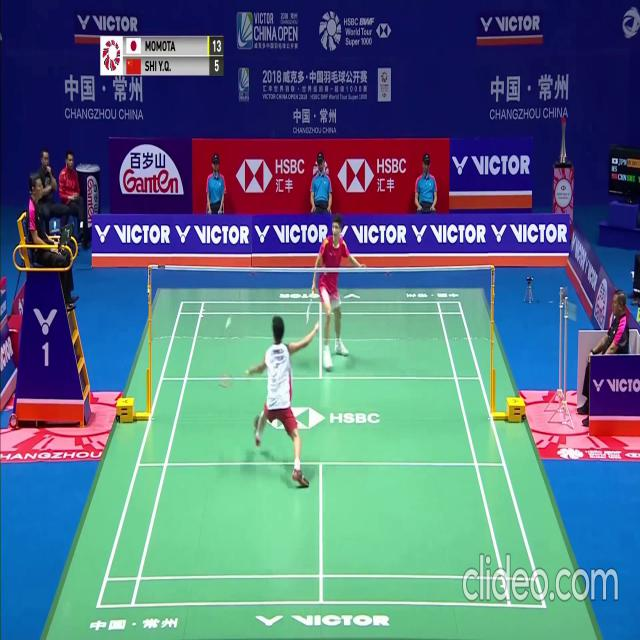Shuttlecock: (225, 320, 229, 327)
